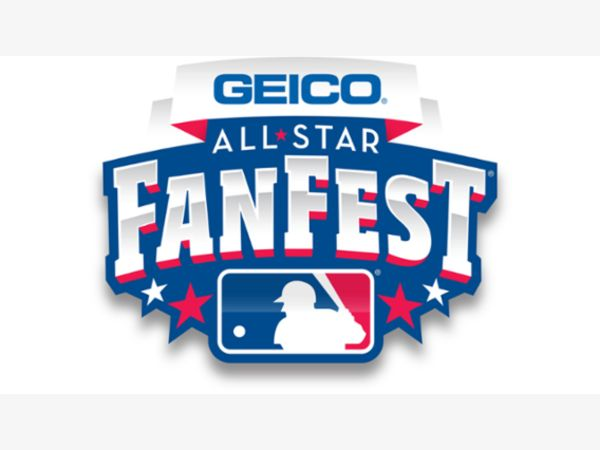geico: (211, 70, 392, 111)
